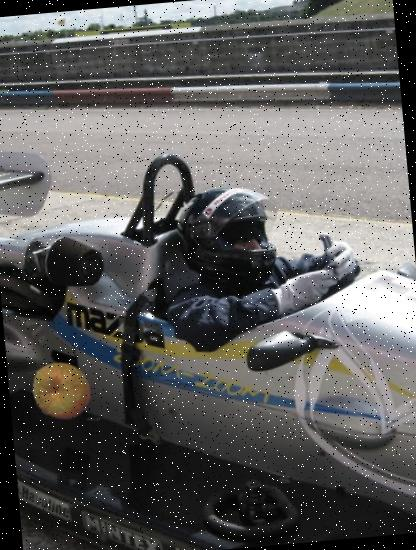Mandarine: (27, 358, 95, 425)
